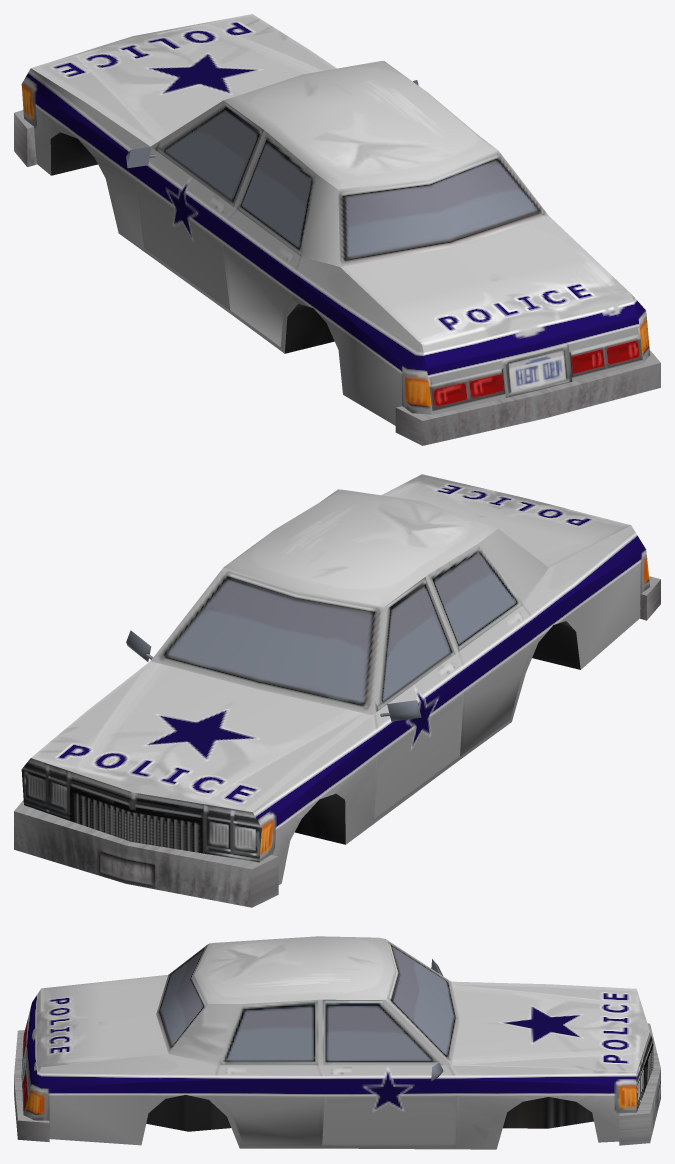
The model's file is Vehicles_CarNormal.FBX.
3 renders of one model, top to bottom at view 1: azimuth 30°, elevation 25°; view 2: azimuth 150°, elevation 25°; view 3: azimuth 270°, elevation 25°, orthographic. The views are drawn at different scales.
Visible parts, largest first — view 1: Vehicles_CarNormal; view 2: Vehicles_CarNormal; view 3: Vehicles_CarNormal.
Boxes of the visible parts, bbox=[...] form: Vehicles_CarNormal: bbox=[14, 14, 660, 445]; Vehicles_CarNormal: bbox=[14, 474, 660, 907]; Vehicles_CarNormal: bbox=[14, 936, 660, 1149].
Bounding box in the file's own units: 106 × 65.51 × 262.
1 material, 1 textured.
